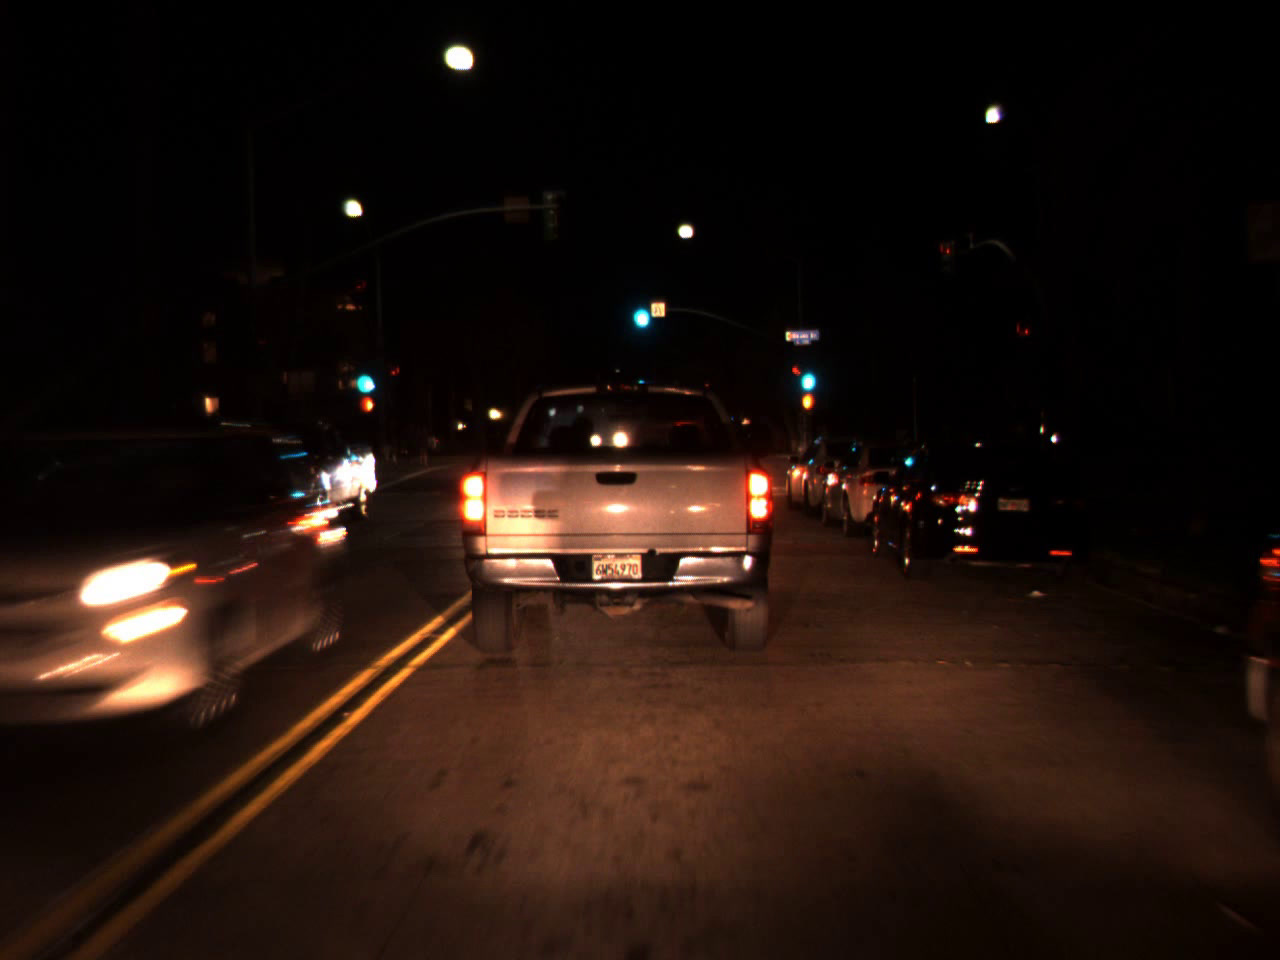go: (626, 286, 653, 334), (351, 352, 376, 400), (795, 350, 818, 398)
